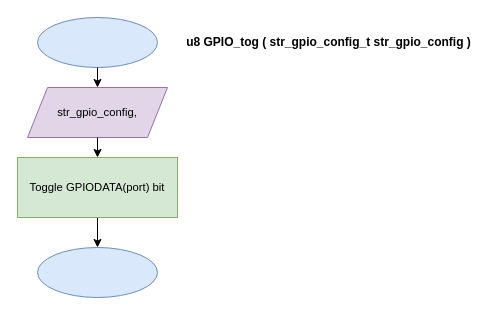
This 487x315 diagram has some shape labels left out. The box of each missing label's shape, as (x1, y1, x2, y2) in pixels:
end: (36, 246, 158, 298)
start: (36, 16, 158, 68)
